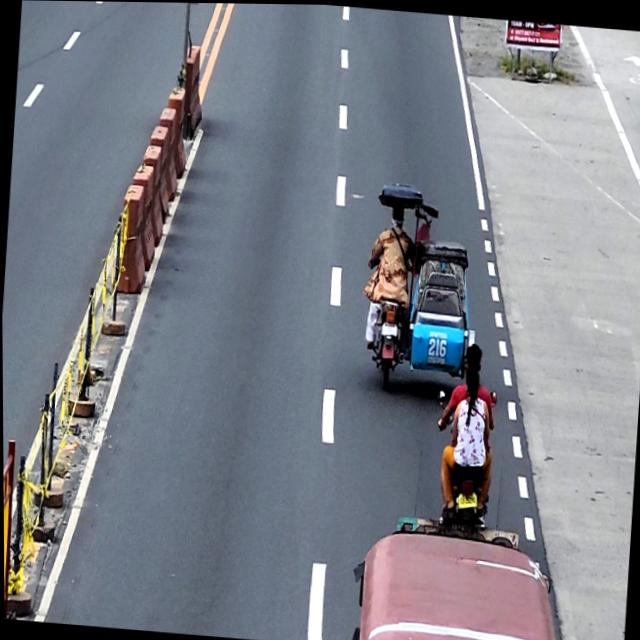Jeep: (346, 509, 566, 640)
License-Plate: (455, 489, 477, 509), (379, 319, 398, 336)
Motorcycle: (427, 383, 498, 529)
Tricycle: (358, 179, 486, 399)
